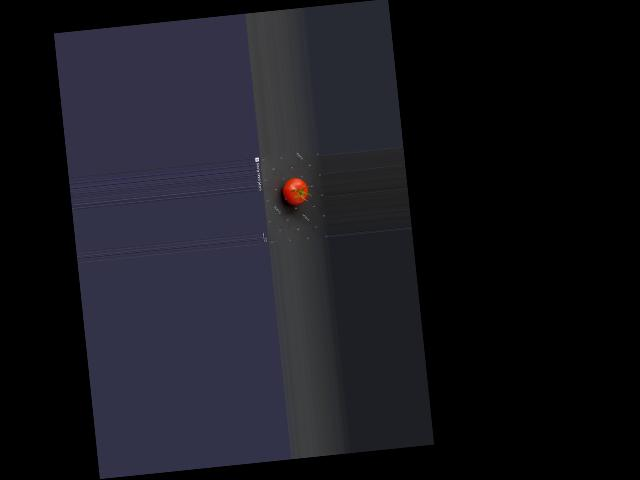tomato: (282, 177, 309, 206)
